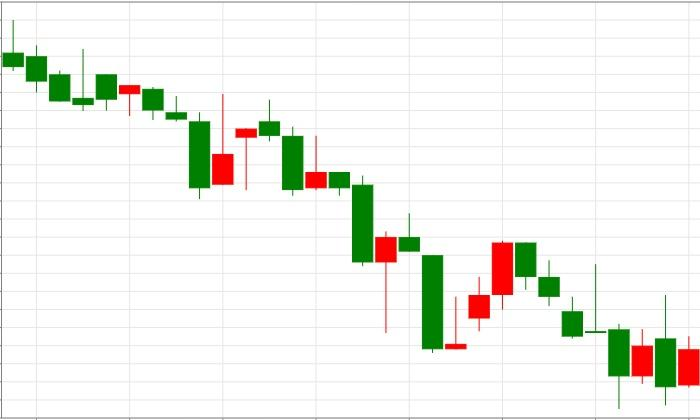hammer_rise: (259, 99, 397, 333)
inverse_hammer_rise: (2, 18, 234, 199)
three_black_crows_fall: (446, 240, 583, 350)
